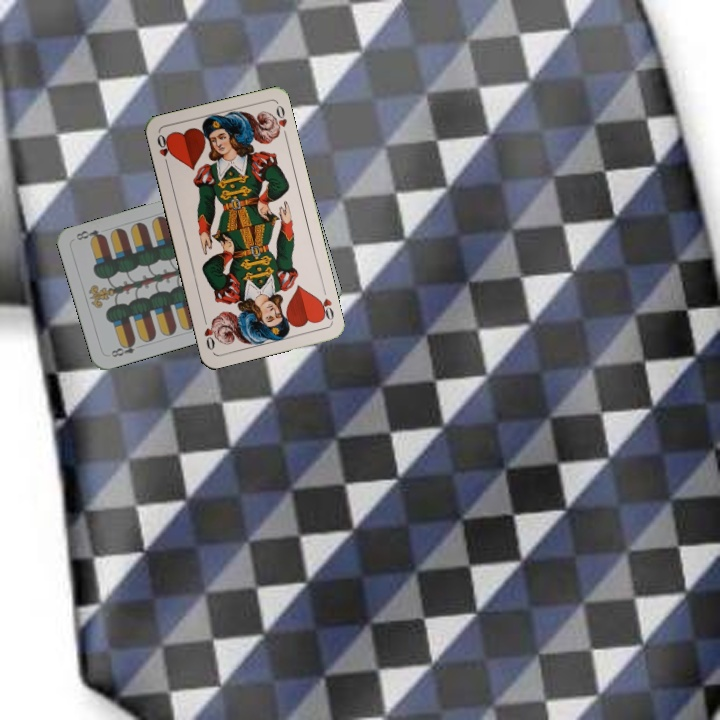E8: (107, 337, 145, 360)
HO: (313, 284, 336, 324), (153, 130, 174, 170)
